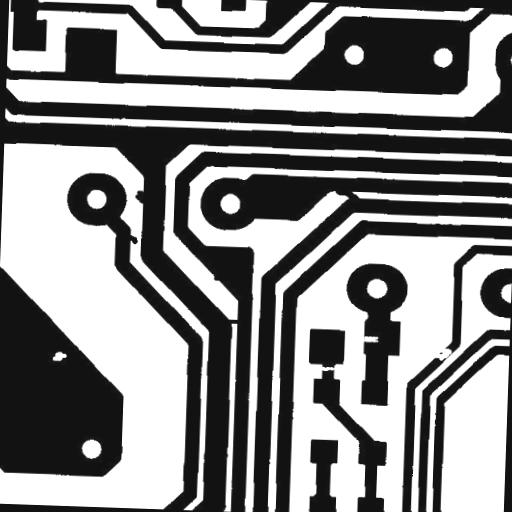mousebite: (352, 328, 386, 350)
open: (424, 339, 458, 368), (308, 358, 348, 379)
pin-hole: (44, 343, 74, 368)
short: (326, 180, 366, 211), (216, 310, 246, 330)
spur: (126, 182, 152, 211), (117, 226, 145, 251)
